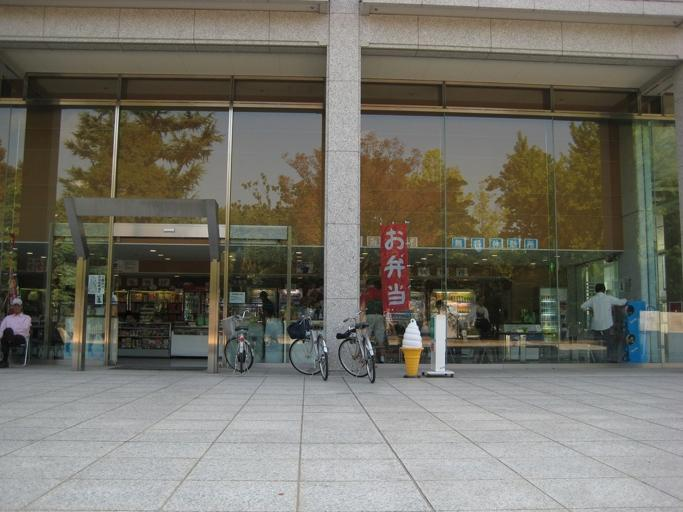non-vehicle: (283, 308, 329, 382), (333, 305, 376, 383), (219, 307, 255, 377)
